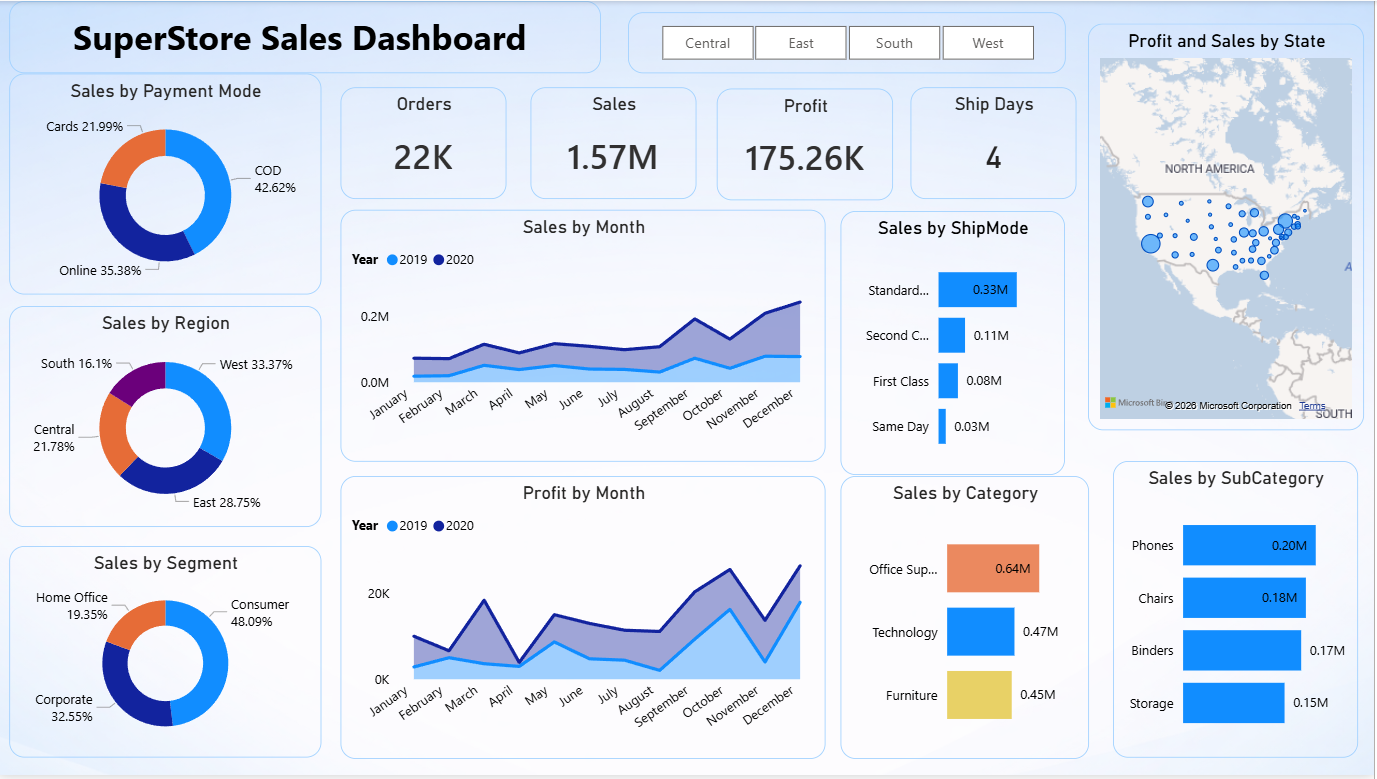

The page's visual inventory and layout, read from the dashboard file:
{"tool":"powerbi","page":{"name":"Page 1","canvas":[1280,720],"ordinal":0},"visuals":[{"type":"clusteredBarChart","title":"Sales by Category","fields":{"Category":["SuperStore_Sales_Dataset.Category"],"Y":["Sum(SuperStore_Sales_Dataset.Sales)"]},"box":[784.3,441.4,231.4,262.9],"z":0},{"type":"clusteredBarChart","title":"Sales by SubCategory","fields":{"Category":["SuperStore_Sales_Dataset.Sub-Category"],"Y":["Sum(SuperStore_Sales_Dataset.Sales)"]},"box":[1037.4,428.1,227.8,275.8],"z":1000},{"type":"clusteredBarChart","title":"Sales by ShipMode","fields":{"Category":["SuperStore_Sales_Dataset.Ship Mode"],"Y":["Sum(SuperStore_Sales_Dataset.Sales)"]},"box":[784.3,195.7,208.6,245.7],"z":2000},{"type":"stackedAreaChart","title":"Sales by Month ","fields":{"Y":["Sum(SuperStore_Sales_Dataset.Sales)"],"Category":["SuperStore_Sales_Dataset.Order Date.Variation.Date Hierarchy.Month","SuperStore_Sales_Dataset.Order Date.Variation.Date Hierarchy.Day"],"Series":["SuperStore_Sales_Dataset.Order Date.Variation.Date Hierarchy.Year"]},"box":[318.6,194.3,451.4,234.3],"z":3000},{"type":"stackedAreaChart","title":"Profit by Month ","fields":{"Category":["SuperStore_Sales_Dataset.Order Date.Variation.Date Hierarchy.Month","SuperStore_Sales_Dataset.Order Date.Variation.Date Hierarchy.Day"],"Series":["SuperStore_Sales_Dataset.Order Date.Variation.Date Hierarchy.Year"],"Y":["Sum(SuperStore_Sales_Dataset.Profit)"]},"box":[318.6,441.4,451.4,262.9],"z":4000},{"type":"map","title":"Profit and Sales by State","fields":{"Category":["SuperStore_Sales_Dataset.State"],"Size":["Sum(SuperStore_Sales_Dataset.Sales)"]},"box":[1014.3,21.4,257.1,378.6],"z":5000},{"type":"donutChart","title":"Sales by Segment","fields":{"Y":["Sum(SuperStore_Sales_Dataset.Sales)"],"Category":["SuperStore_Sales_Dataset.Segment"]},"box":[10,507.1,290,197.1],"z":6000},{"type":"donutChart","title":"Sales by Payment Mode","fields":{"Y":["Sum(SuperStore_Sales_Dataset.Sales)"],"Category":["SuperStore_Sales_Dataset.Payment Mode"]},"box":[10,67.1,290,205.7],"z":7000},{"type":"slicer","fields":{"Values":["SuperStore_Sales_Dataset.Region"]},"box":[585.7,10,407.1,57.1],"z":8000},{"type":"textbox","box":[10,0,550,67.1],"z":9000},{"type":"cardVisual","title":"Sales","fields":{"Data":["Sum(SuperStore_Sales_Dataset.Sales)"]},"box":[495.7,80,154.3,104.3],"z":10000},{"type":"cardVisual","title":"Orders","fields":{"Data":["Sum(SuperStore_Sales_Dataset.Quantity)"]},"box":[318.6,80,154.3,104.3],"z":11000},{"type":"cardVisual","title":"Profit","fields":{"Data":["Sum(SuperStore_Sales_Dataset.Profit)"]},"box":[668.6,81.4,164.3,104.3],"z":12000},{"type":"card","title":"Ship Days","fields":{"Values":["Avg(SuperStore_Sales_Dataset.AvgDelivery)"]},"box":[848.6,80,154.3,104.3],"z":13000},{"type":"donutChart","title":"Sales by Region","fields":{"Y":["Sum(SuperStore_Sales_Dataset.Sales)"],"Category":["SuperStore_Sales_Dataset.Region"]},"box":[10,284.3,290,205.7],"z":14000}]}

Visuals, with their boxes in screenshot pixels (x1, y1, x2, y2), scaled from the page's 1280x720 canvas onto the 1377x779 screenshot:
"Sales by Category" clusteredBarChart: 844, 478, 1093, 762
"Sales by SubCategory" clusteredBarChart: 1116, 463, 1361, 762
"Sales by ShipMode" clusteredBarChart: 844, 212, 1068, 478
"Sales by Month " stackedAreaChart: 343, 210, 828, 464
"Profit by Month " stackedAreaChart: 343, 478, 828, 762
"Profit and Sales by State" map: 1091, 23, 1368, 433
"Sales by Segment" donutChart: 11, 549, 323, 762
"Sales by Payment Mode" donutChart: 11, 73, 323, 295
slicer - SuperStore_Sales_Dataset.Region: 630, 11, 1068, 73
textbox: 11, 0, 602, 73
"Sales" cardVisual: 533, 87, 699, 199
"Orders" cardVisual: 343, 87, 509, 199
"Profit" cardVisual: 719, 88, 896, 201
"Ship Days" card: 913, 87, 1079, 199
"Sales by Region" donutChart: 11, 308, 323, 530
